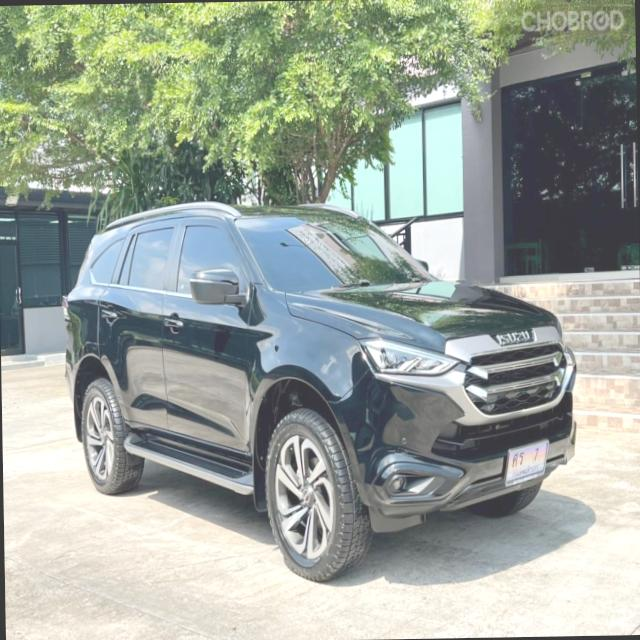license_plate: (499, 430, 554, 500)
